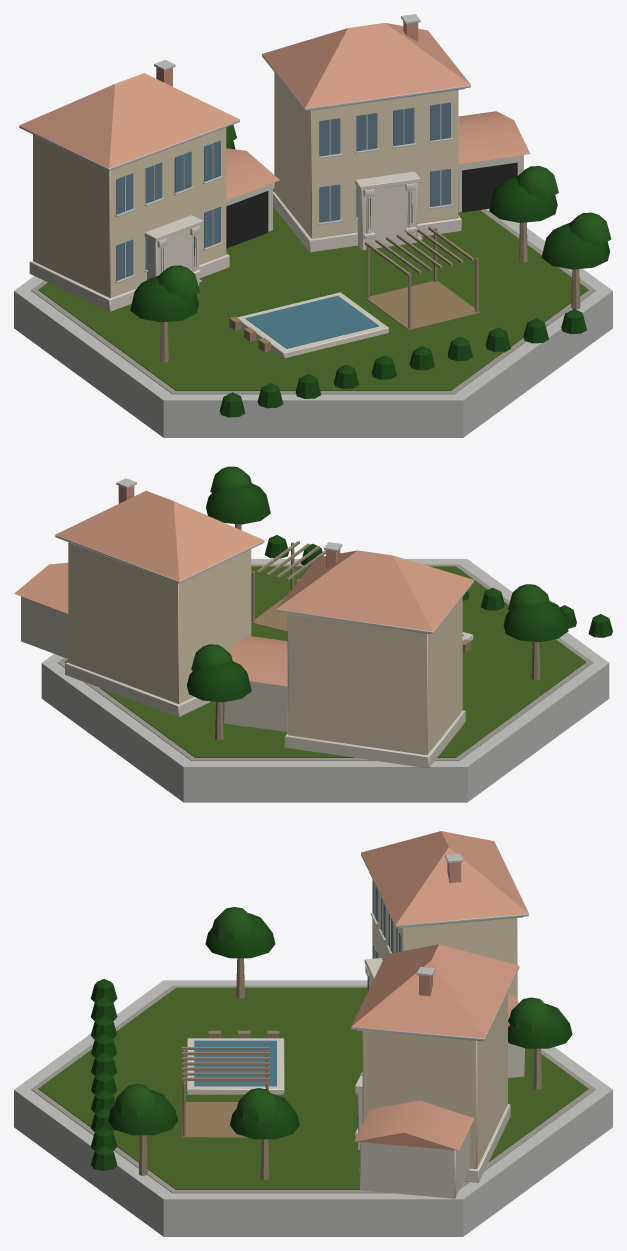
File: luxuryVillas.glb
3 renders of one model, top to bottom at view 1: azimuth 30°, elevation 25°; view 2: azimuth 150°, elevation 25°; view 3: azimuth 270°, elevation 25°, orthographic. The views are drawn at different scales.
Visible parts, largest first — view 1: turf, plaster, wall_concrete, roof_tile, leaf, stone, glass, wood, dark, pavers, cladding; view 2: plaster, wall_concrete, roof_tile, turf, leaf, cladding, stone, pavers, wood; view 3: turf, wall_concrete, roof_tile, plaster, leaf, wood, cladding, pavers, glass, stone, brick.
Boxes of the visible parts, bbox=[...] form: turf: bbox=[38, 189, 588, 390]; plaster: bbox=[33, 72, 458, 297]; wall_concrete: bbox=[14, 14, 612, 437]; roof_tile: bbox=[19, 23, 530, 199]; leaf: bbox=[130, 124, 611, 417]; stone: bbox=[29, 171, 461, 358]; glass: bbox=[116, 102, 450, 348]; wood: bbox=[160, 222, 580, 362]; dark: bbox=[161, 162, 517, 272]; pavers: bbox=[31, 186, 595, 394]; cladding: bbox=[226, 155, 523, 231]; plaster: bbox=[68, 542, 462, 754]; wall_concrete: bbox=[41, 478, 609, 802]; roof_tile: bbox=[14, 491, 473, 686]; turf: bbox=[64, 566, 586, 757]; leaf: bbox=[187, 466, 612, 702]; cladding: bbox=[21, 596, 287, 732]; stone: bbox=[65, 632, 473, 768]; pavers: bbox=[57, 564, 593, 760]; wood: bbox=[215, 524, 540, 740]; turf: bbox=[38, 987, 588, 1189]; wall_concrete: bbox=[14, 853, 612, 1236]; roof_tile: bbox=[351, 831, 528, 1150]; plaster: bbox=[362, 879, 517, 1168]; leaf: bbox=[90, 907, 572, 1170]; wood: bbox=[139, 958, 542, 1179]; cladding: bbox=[360, 1042, 524, 1198]; pavers: bbox=[31, 985, 595, 1193]; glass: bbox=[194, 881, 401, 1086]; stone: bbox=[187, 958, 510, 1182]; brick: bbox=[419, 862, 461, 996].
Bounding box in the file's own units: 22.78 × 10.5 × 24.6.
